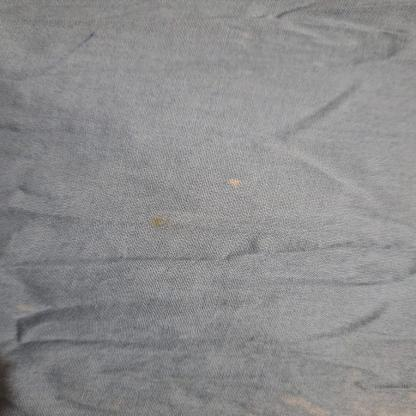spot: (145, 207, 175, 232), (219, 173, 243, 192)
